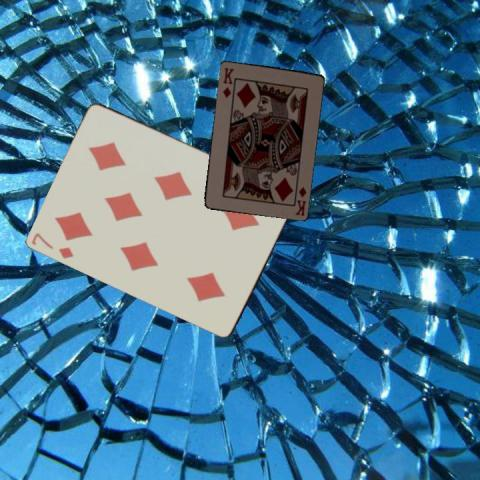7d: (29, 229, 76, 260)
Kd: (291, 179, 308, 217), (220, 65, 236, 98)
